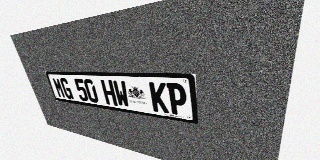0: (83, 79, 99, 103)
5: (74, 78, 89, 102)
G: (59, 78, 74, 99)
H: (100, 80, 118, 106)
K: (149, 82, 169, 113)
M: (52, 77, 66, 98)
P: (166, 83, 188, 116)
W: (112, 80, 130, 108)
